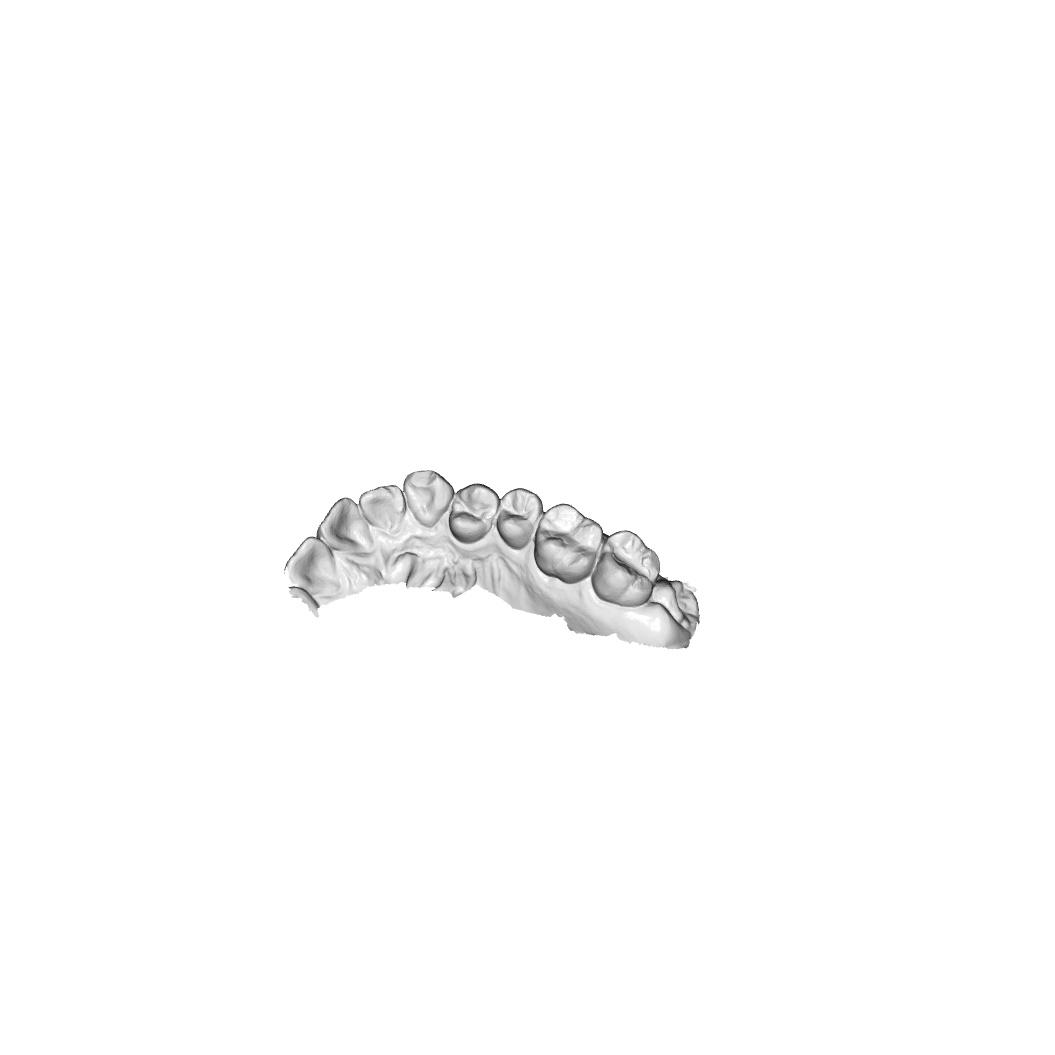canine: (402, 469, 455, 529)
incisor: (315, 497, 375, 553), (282, 536, 338, 596), (358, 484, 407, 530)
molar: (534, 503, 605, 585), (591, 529, 661, 608)
premolar: (448, 483, 501, 545), (496, 487, 544, 550)
